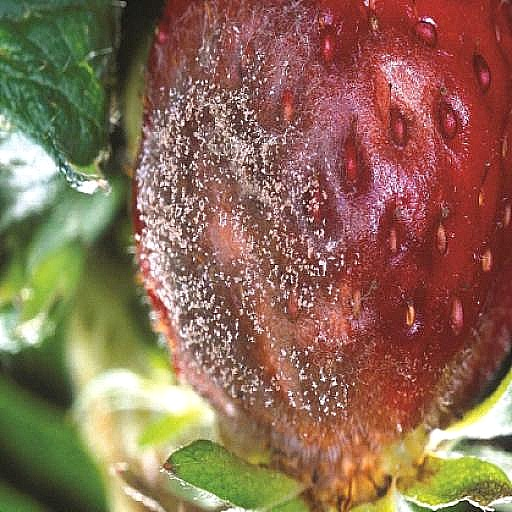Gray Mold: (132, 18, 511, 511)
